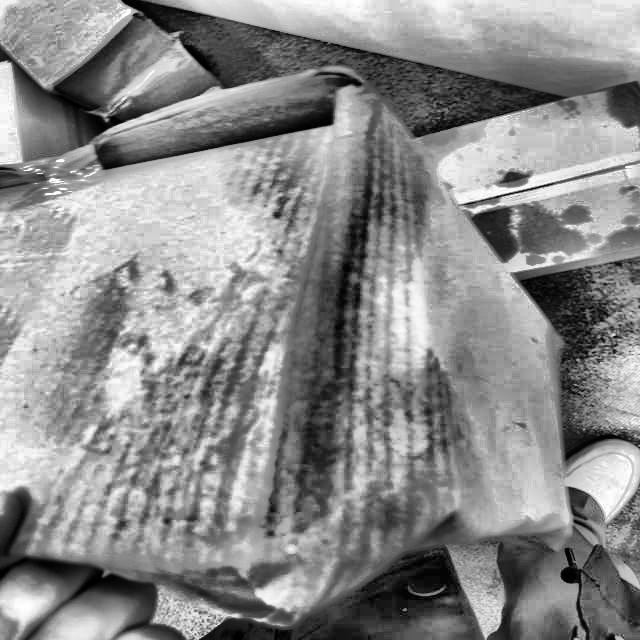box: (0, 62, 577, 628)
wet: (36, 95, 483, 576)
